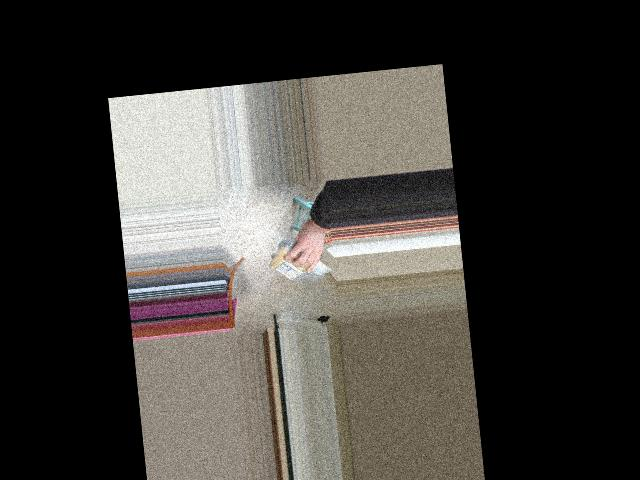cheese: (261, 247, 332, 283)
